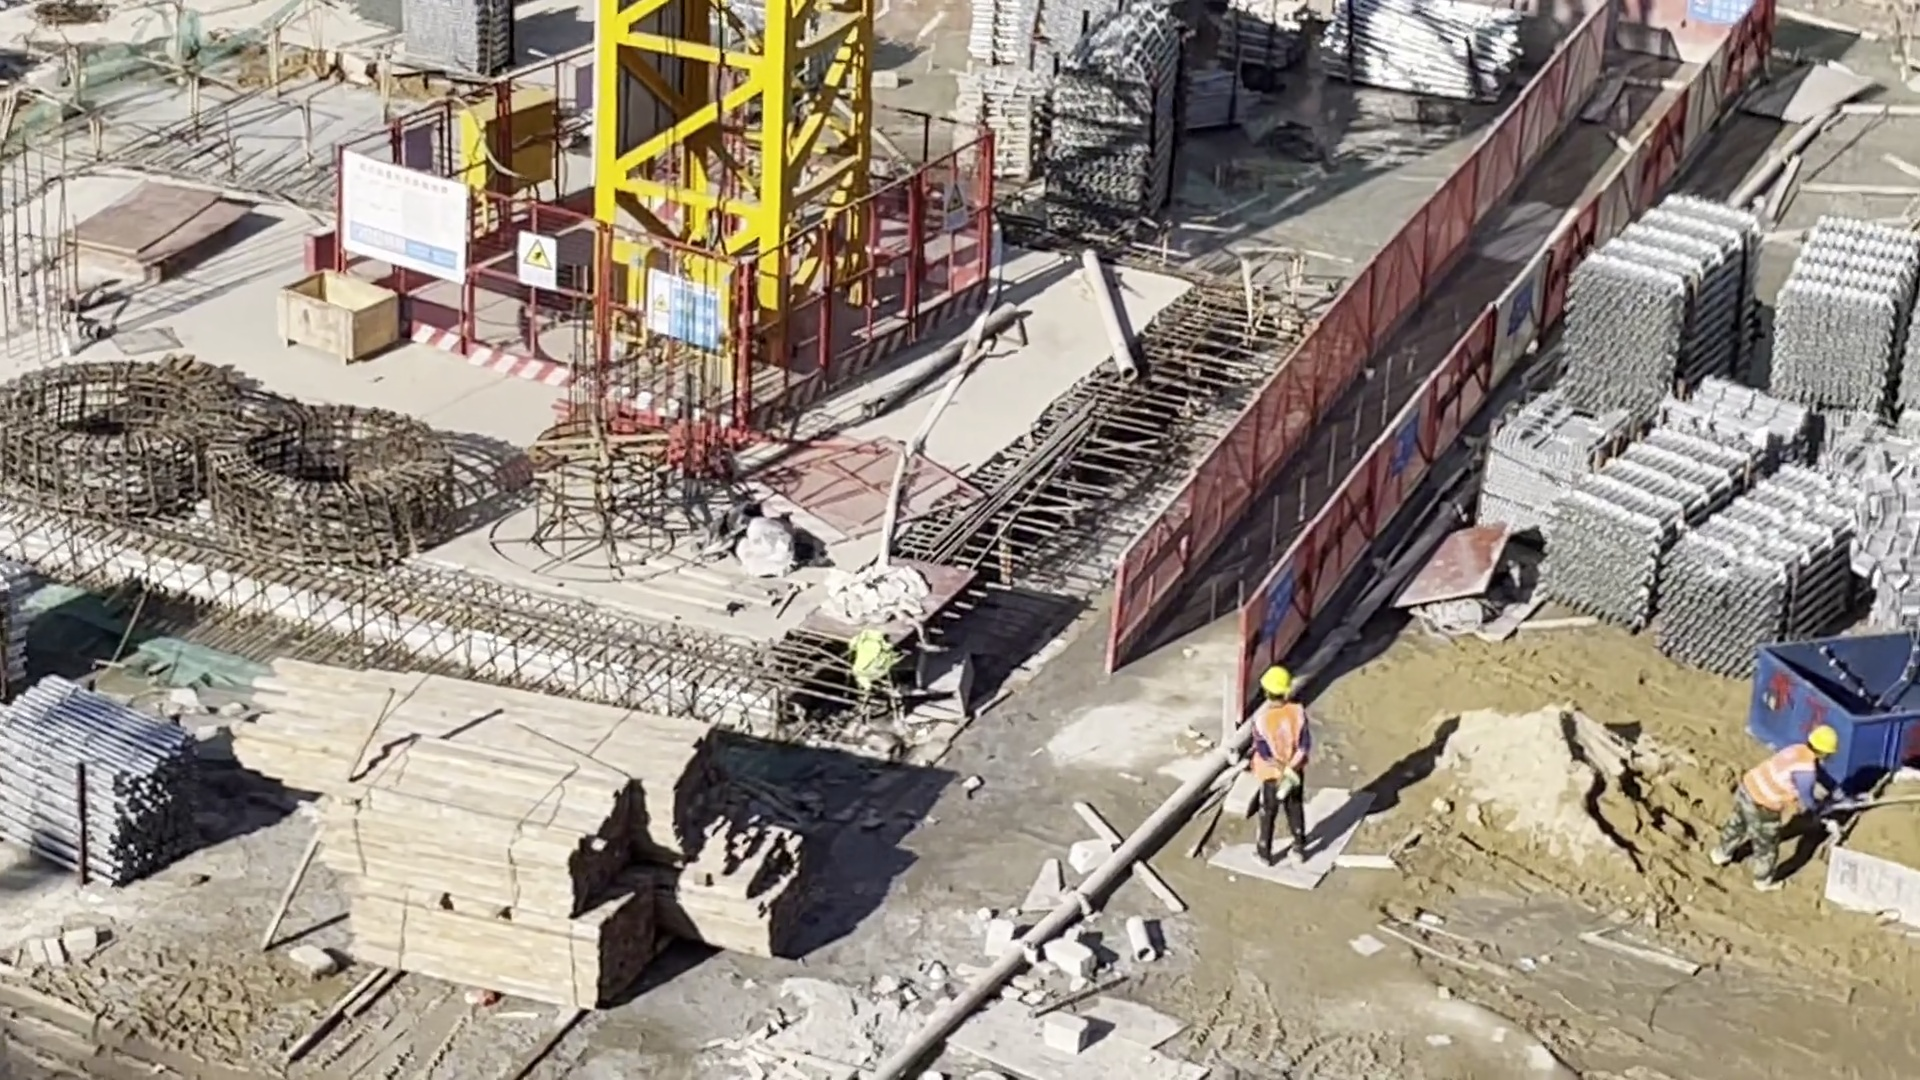board: (71, 183, 239, 283)
ebox: (463, 100, 555, 201)
fence: (1113, 1, 1789, 697)
helmet: (1261, 664, 1293, 697), (1806, 726, 1839, 756)
hopper: (1756, 619, 1920, 785), (1832, 761, 1920, 919)
person: (1715, 727, 1839, 888), (1246, 664, 1313, 866)
scaffold: (1565, 196, 1758, 422), (1, 678, 194, 883), (1667, 464, 1850, 669), (1557, 423, 1749, 619), (1775, 219, 1920, 408), (1055, 14, 1179, 222), (1323, 1, 1521, 95), (952, 62, 1055, 181), (967, 3, 1183, 54), (398, 1, 525, 72), (1207, 1, 1298, 77)
slogan: (650, 277, 719, 353), (1266, 561, 1296, 633), (520, 227, 556, 284), (1390, 406, 1416, 480), (1689, 1, 1751, 27), (943, 180, 971, 230)
vest: (1739, 745, 1808, 815), (1256, 710, 1308, 785)
wood: (256, 664, 720, 876), (346, 750, 661, 1010)
